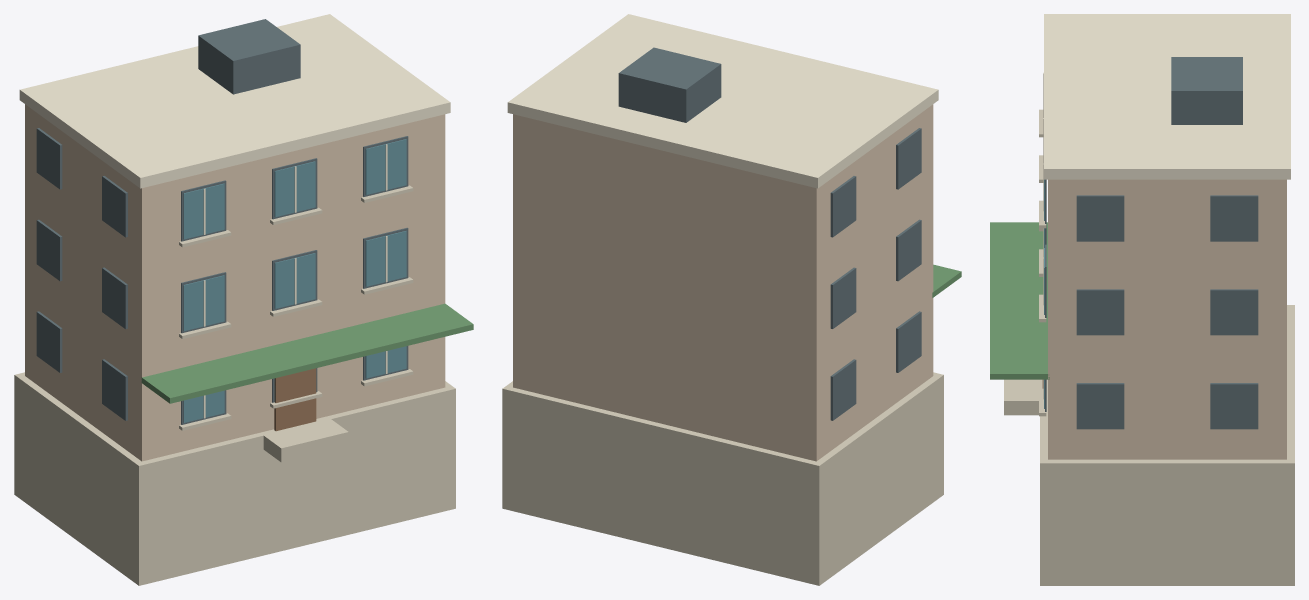
The model's file is shop-2.glb.
The picture shows the model from 3 angles, left to right: view 1: azimuth 30°, elevation 25°; view 2: azimuth 150°, elevation 25°; view 3: azimuth 270°, elevation 25°; orthographic projection. The views are drawn at different scales.
Bounding box in the file's own units: 9.4 × 12.45 × 7.65.
